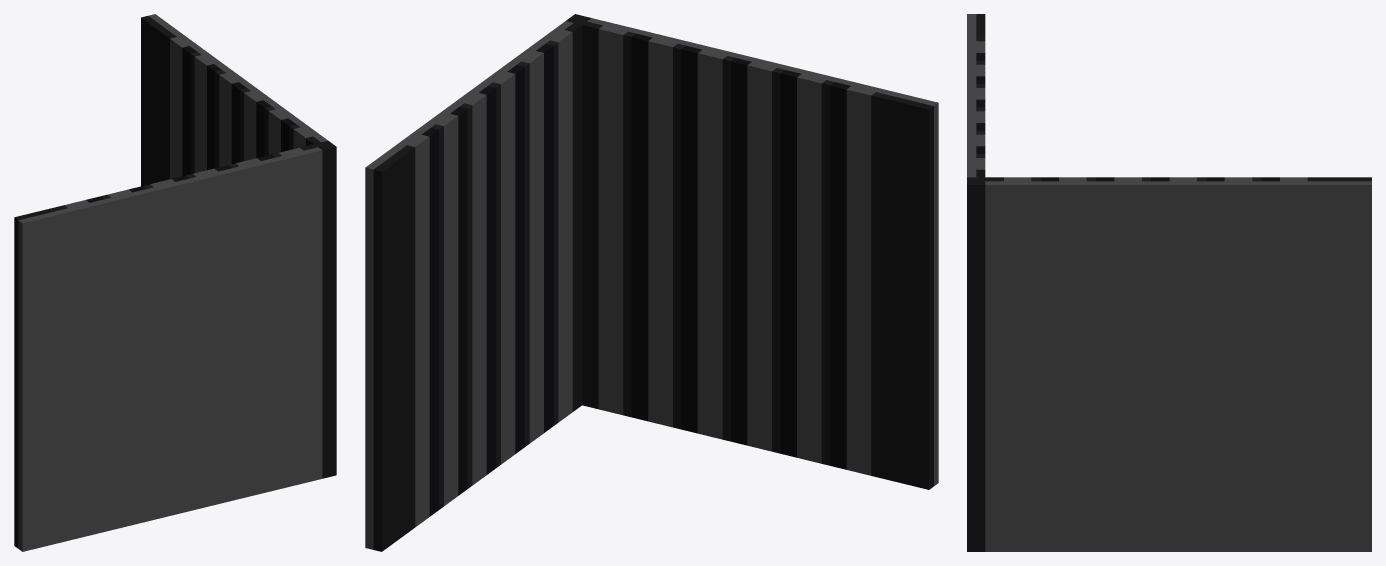
Rendered from mesh_hanger_wall_grid_corner_mid.obj.
3 views of the same model, side by side, from view 1: azimuth 30°, elevation 25°; view 2: azimuth 150°, elevation 25°; view 3: azimuth 270°, elevation 25° (orthographic). The views are drawn at different scales.
Size of the model in its own units: 4.4 by 4.4 by 4.4.
1 material, 1 textured.
